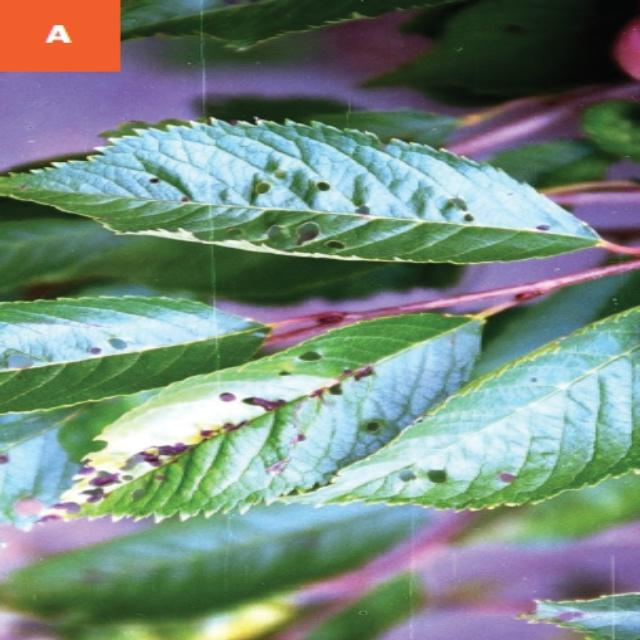shot_hole: (35, 111, 638, 636)
